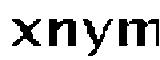m: (116, 15, 160, 49)
n: (46, 16, 78, 50)
x: (9, 18, 44, 50)
y: (79, 16, 114, 58)
